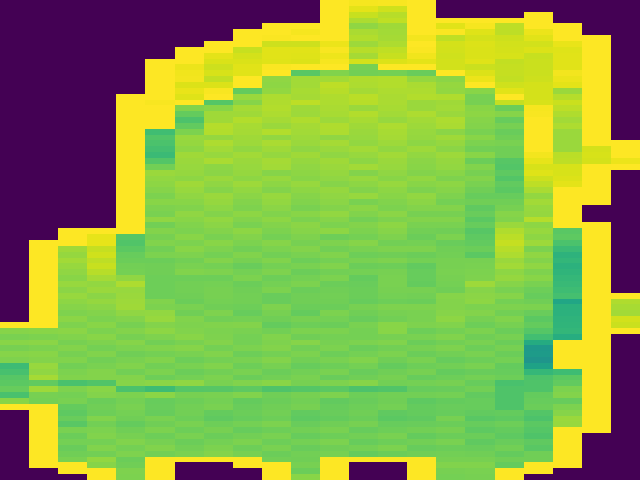car_0027: (4, 4, 640, 471)
